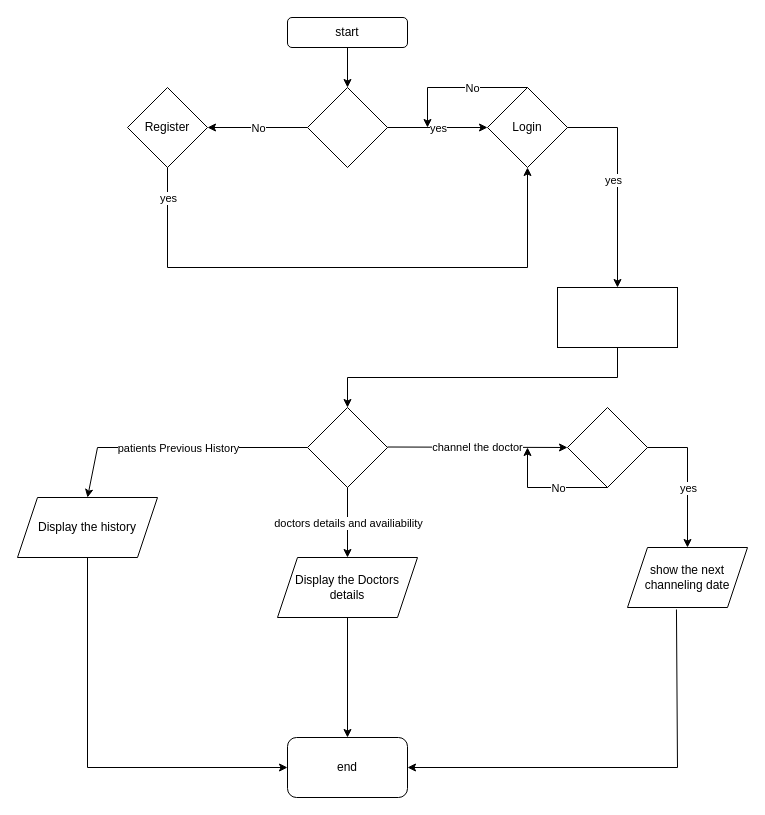
Some shapes in this 765 by 815 pixel diagram are drawn without their labels. Here are the shapes that lost their labels. From the top down, the centre of each, then its label:
the point at 347,127: Already Registered
the point at 617,317: successfully loged in
the point at 347,447: select the service
the point at 607,447: filling form
